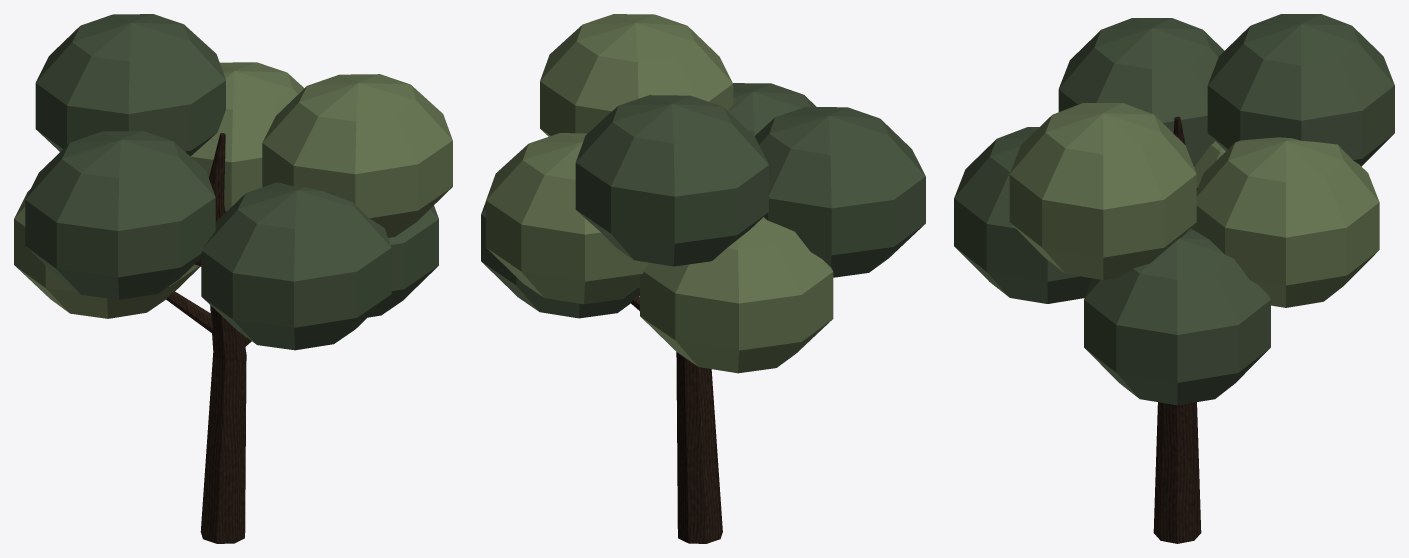
Rendered from Tree_Broadleaf_02.glb.
3 renders of one model, left to right at view 1: azimuth 30°, elevation 25°; view 2: azimuth 150°, elevation 25°; view 3: azimuth 270°, elevation 25°, orthographic. The views are drawn at different scales.
Parts seen in each view (by area): view 1: Tree_Broadleaf_02; view 2: Tree_Broadleaf_02; view 3: Tree_Broadleaf_02.
Part boxes in pixels (bbox=[...]): Tree_Broadleaf_02: bbox=[14, 14, 452, 543]; Tree_Broadleaf_02: bbox=[481, 14, 925, 543]; Tree_Broadleaf_02: bbox=[954, 14, 1394, 543].
Size of the model in its own units: 4.03 by 4.58 by 3.71.
3 materials, 1 textured.
